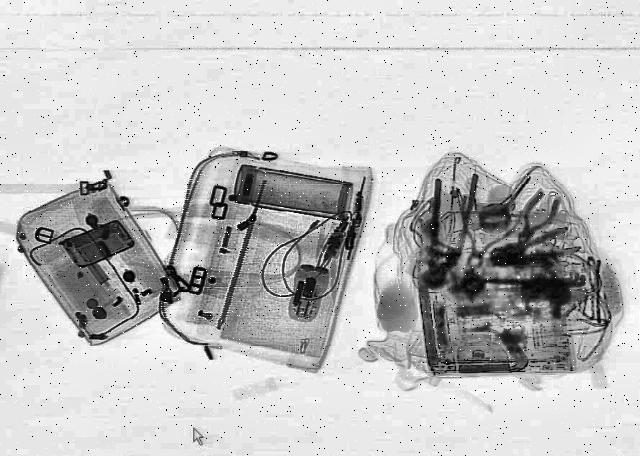Pliers: (434, 193, 530, 281), (420, 170, 480, 278), (476, 224, 582, 274), (502, 188, 568, 250)
